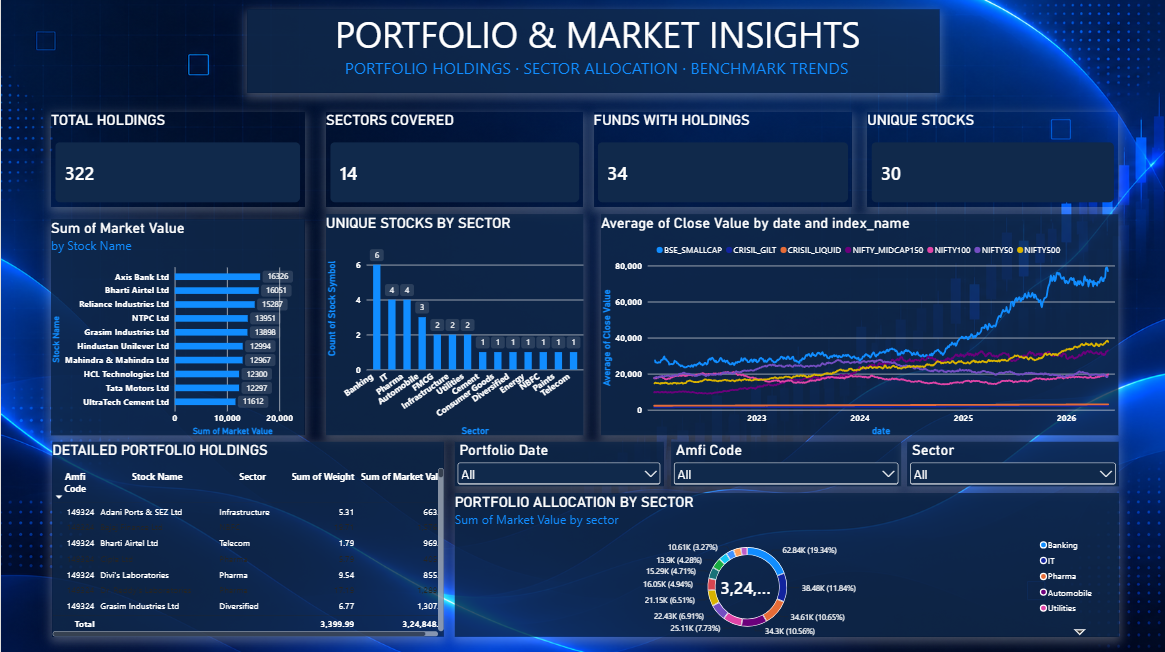

What the dashboard file says about the page in this screenshot:
{"tool":"powerbi","page":{"name":"Page 4","canvas":[1920,1080],"ordinal":3},"visuals":[{"type":"textbox","box":[405.5,30.9,1140.3,137.9],"z":0},{"type":"cardVisual","title":"TOTAL HOLDINGS","fields":{"Data":["CountNonNull(09_portfolio_holdings.stock_symbol)"]},"box":[82.3,187.3,417.8,156.4],"z":2},{"type":"cardVisual","title":"UNIQUE STOCKS","fields":{"Data":["Count(09_portfolio_holdings.stock_symbol)"]},"box":[1426.4,187.3,413.7,156.4],"z":3},{"type":"cardVisual","title":"SECTORS COVERED","fields":{"Data":["Count(09_portfolio_holdings.sector)"]},"box":[535.2,187.3,424,156.4],"z":4},{"type":"cardVisual","title":"FUNDS WITH HOLDINGS","fields":{"Data":["Count(09_portfolio_holdings.amfi_code)"]},"box":[975.6,187.3,426.1,156.4],"z":5},{"type":"clusteredBarChart","fields":{"Category":["09_portfolio_holdings.stock_name"],"Y":["Sum(09_portfolio_holdings.market_value_cr)"]},"box":[82.3,364.3,417.8,356.1],"z":6},{"type":"clusteredColumnChart","title":"UNIQUE STOCKS BY SECTOR","fields":{"Category":["09_portfolio_holdings.sector"],"Y":["Count(09_portfolio_holdings.stock_symbol)"]},"box":[535.2,356.1,424,364.3],"z":7},{"type":"lineChart","fields":{"Category":["10_benchmark_indices.date"],"Series":["10_benchmark_indices.index_name"],"Y":["Avg(10_benchmark_indices.close_value)"]},"box":[988,356.1,852.1,364.3],"z":8},{"type":"tableEx","title":"DETAILED PORTFOLIO HOLDINGS","fields":{"Values":["09_portfolio_holdings.amfi_code","09_portfolio_holdings.stock_name","09_portfolio_holdings.sector","Sum(09_portfolio_holdings.weight_pct)","Sum(09_portfolio_holdings.market_value_cr)"]},"box":[83.6,730.9,644.5,320.9],"z":9},{"type":"slicer","fields":{"Values":["09_portfolio_holdings.amfi_code"]},"box":[1103.6,730.9,379.1,73.6],"z":10},{"type":"slicer","fields":{"Values":["09_portfolio_holdings.sector"]},"box":[1491.8,730.9,348.2,73.6],"z":11},{"type":"slicer","fields":{"Values":["09_portfolio_holdings.portfolio_date"]},"box":[747.3,730.9,343.6,73.6],"z":12},{"type":"donutChart","title":"PORTFOLIO ALLOCATION BY SECTOR","fields":{"Category":["09_portfolio_holdings.sector"],"Y":["Sum(09_portfolio_holdings.market_value_cr)"]},"box":[746.7,815.6,1093.3,236.7],"z":13}]}

Visuals, with their boxes in screenshot pixels (x1, y1, x2, y2), scaled from the page's 1920x1080 canvas onto the 1165x652 screenshot:
textbox: bbox(246, 19, 938, 102)
"TOTAL HOLDINGS" cardVisual: bbox(50, 113, 303, 207)
"UNIQUE STOCKS" cardVisual: bbox(865, 113, 1117, 207)
"SECTORS COVERED" cardVisual: bbox(325, 113, 582, 207)
"FUNDS WITH HOLDINGS" cardVisual: bbox(592, 113, 851, 207)
clusteredBarChart - 09_portfolio_holdings.stock_name x Sum(09_portfolio_holdings.market_value_cr): bbox(50, 220, 303, 435)
"UNIQUE STOCKS BY SECTOR" clusteredColumnChart: bbox(325, 215, 582, 435)
lineChart - 10_benchmark_indices.date x 10_benchmark_indices.index_name: bbox(599, 215, 1117, 435)
"DETAILED PORTFOLIO HOLDINGS" tableEx: bbox(51, 441, 442, 635)
slicer - 09_portfolio_holdings.amfi_code: bbox(670, 441, 900, 486)
slicer - 09_portfolio_holdings.sector: bbox(905, 441, 1116, 486)
slicer - 09_portfolio_holdings.portfolio_date: bbox(453, 441, 662, 486)
"PORTFOLIO ALLOCATION BY SECTOR" donutChart: bbox(453, 492, 1116, 635)
